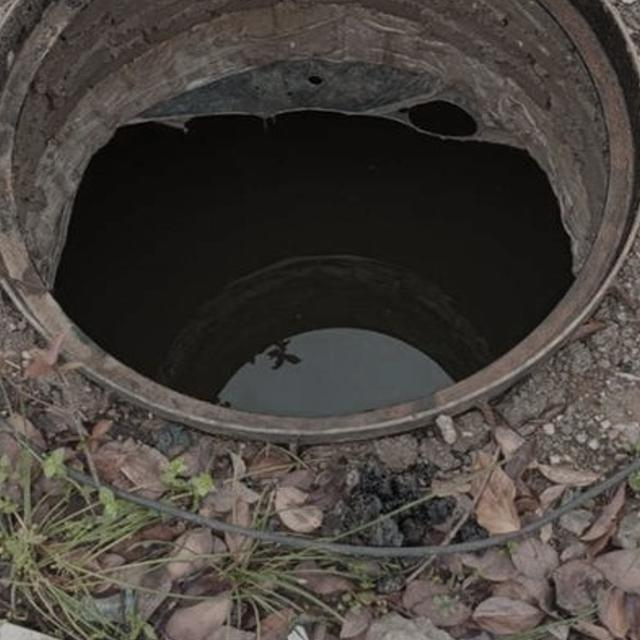lose: (0, 0, 640, 448)
